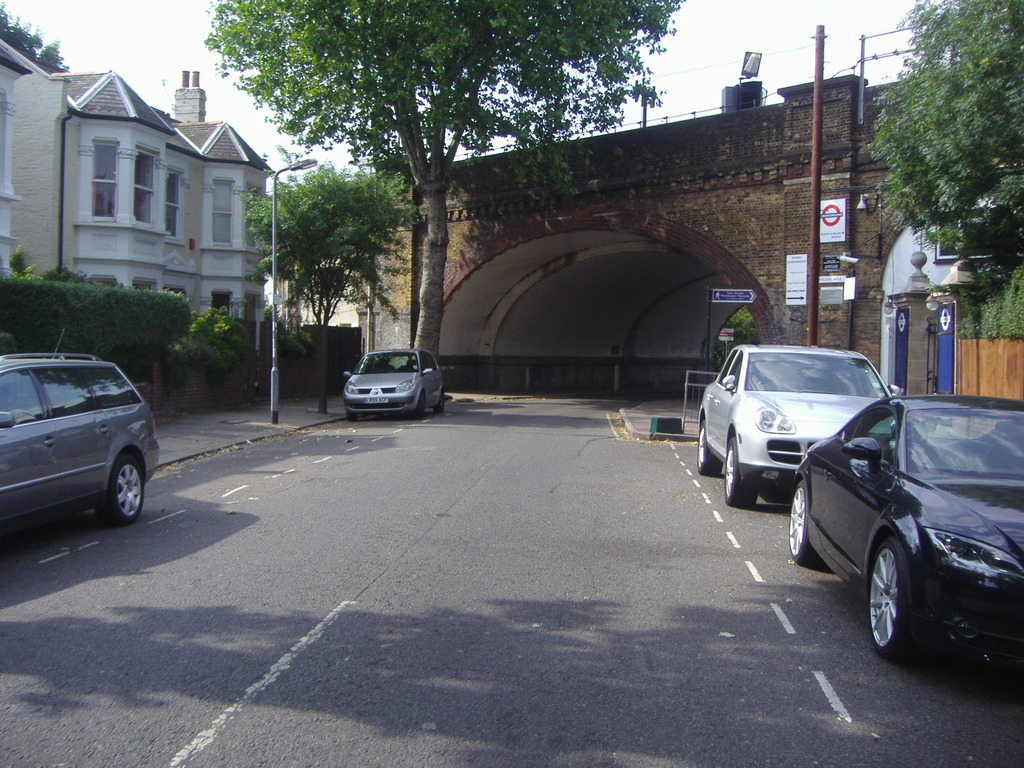Car: (789, 399, 1023, 677), (681, 330, 898, 512), (0, 357, 163, 523), (342, 337, 455, 416)
